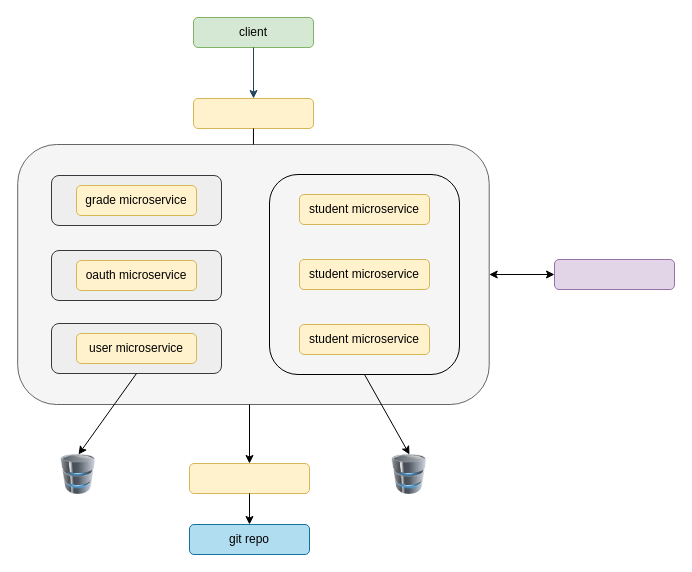
This 692x572 diagram has some shape labels left out. Here are the shapes that lost their labels. From the top down, the centre of each, then its label:
At (x=253, y=113): "api gateway zuul".
At (x=614, y=274): "eureka server".
At (x=249, y=478): "config server".
